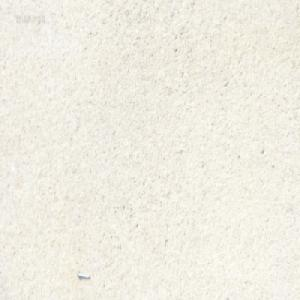Nail: (76, 270, 91, 280)
